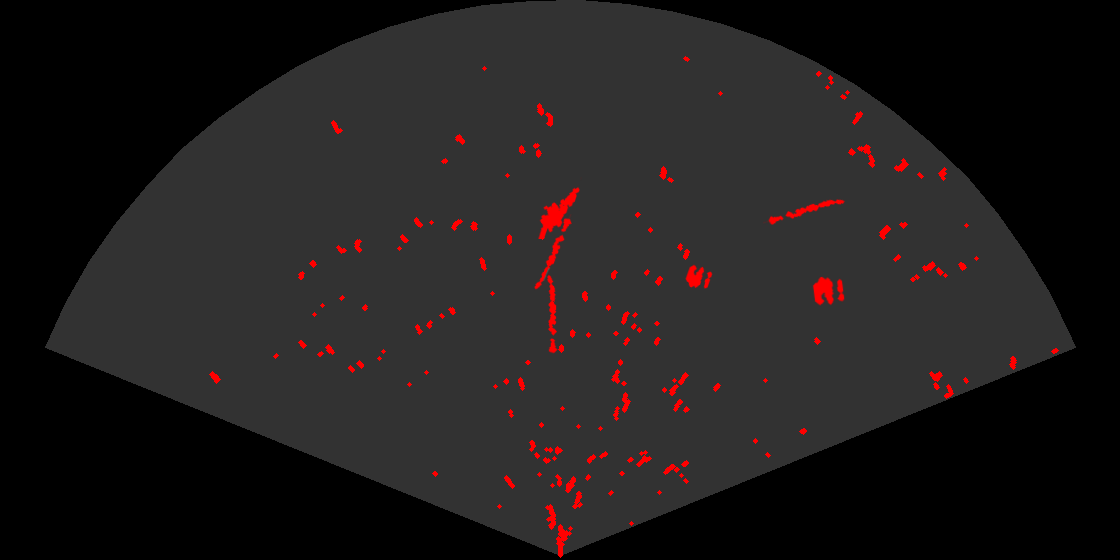ball: (811, 275, 846, 307), (684, 263, 714, 290)
chain: (533, 214, 573, 291), (763, 198, 847, 226), (546, 274, 559, 354)
frogman: (537, 177, 582, 239)
